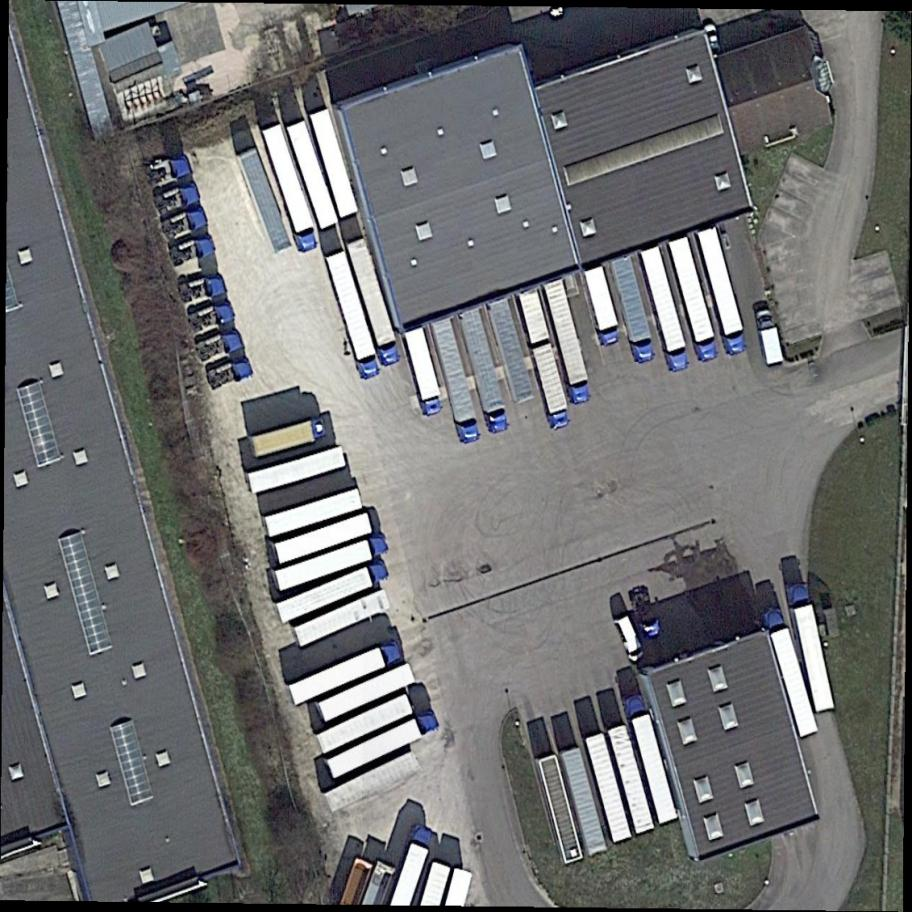large-vehicle: (326, 709, 443, 782), (515, 285, 573, 430), (274, 556, 392, 626), (759, 604, 820, 739), (261, 124, 322, 254), (287, 639, 404, 706), (695, 225, 752, 356), (346, 236, 402, 369), (272, 534, 392, 595), (325, 250, 380, 380), (457, 306, 512, 436), (625, 695, 680, 825), (638, 243, 691, 372), (543, 275, 594, 407), (667, 235, 719, 362), (431, 316, 481, 444), (787, 582, 836, 712), (608, 254, 660, 366), (389, 824, 434, 911), (404, 326, 443, 418), (250, 416, 332, 459), (581, 264, 622, 347), (753, 308, 786, 368), (629, 589, 665, 642), (609, 615, 647, 664)
small-vehicle: (703, 22, 722, 53)
